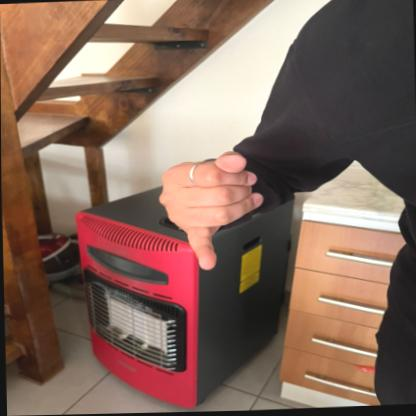Z: (152, 149, 269, 275)
